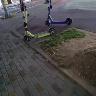beam: (43, 1, 75, 27)
gcooter: (18, 3, 57, 44)
